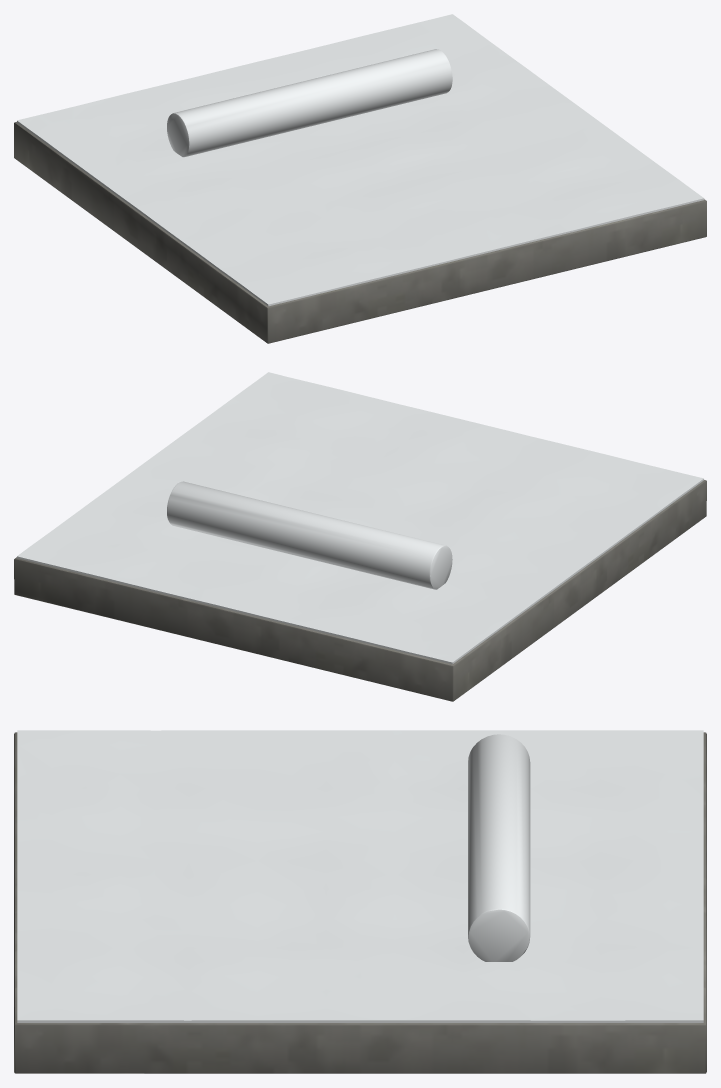
The model's file is IMP-PRT-002_lod1.glb.
3 views of the same model, one above another, from view 1: azimuth 30°, elevation 25°; view 2: azimuth 150°, elevation 25°; view 3: azimuth 270°, elevation 25° (orthographic). The views are drawn at different scales.
Visible parts, largest first — view 1: IMP-PRT-002_filme, IMP-PRT-002_laje, IMP-PRT-002_rolo; view 2: IMP-PRT-002_filme, IMP-PRT-002_laje, IMP-PRT-002_rolo; view 3: IMP-PRT-002_filme, IMP-PRT-002_laje, IMP-PRT-002_rolo.
Boxes of the visible parts, bbox=[...] form: IMP-PRT-002_filme: bbox=[17, 14, 704, 306]; IMP-PRT-002_laje: bbox=[14, 122, 706, 343]; IMP-PRT-002_rolo: bbox=[167, 49, 452, 157]; IMP-PRT-002_filme: bbox=[17, 372, 703, 664]; IMP-PRT-002_laje: bbox=[14, 480, 706, 701]; IMP-PRT-002_rolo: bbox=[167, 481, 452, 589]; IMP-PRT-002_filme: bbox=[17, 730, 703, 1022]; IMP-PRT-002_laje: bbox=[14, 732, 706, 1073]; IMP-PRT-002_rolo: bbox=[468, 734, 530, 961].
Bounding box in the file's own units: 1 × 0.17 × 1.
Materials: 2 (1 with a texture image).
